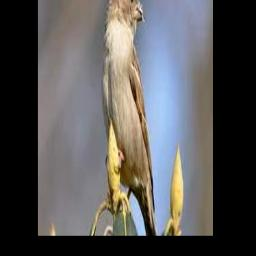Sparrow: (101, 0, 157, 235)
